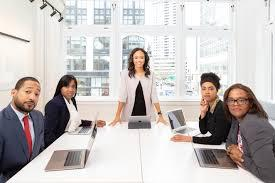Person: (116, 45, 169, 132), (225, 88, 275, 179), (2, 78, 45, 177), (49, 75, 83, 137), (194, 72, 223, 133)
